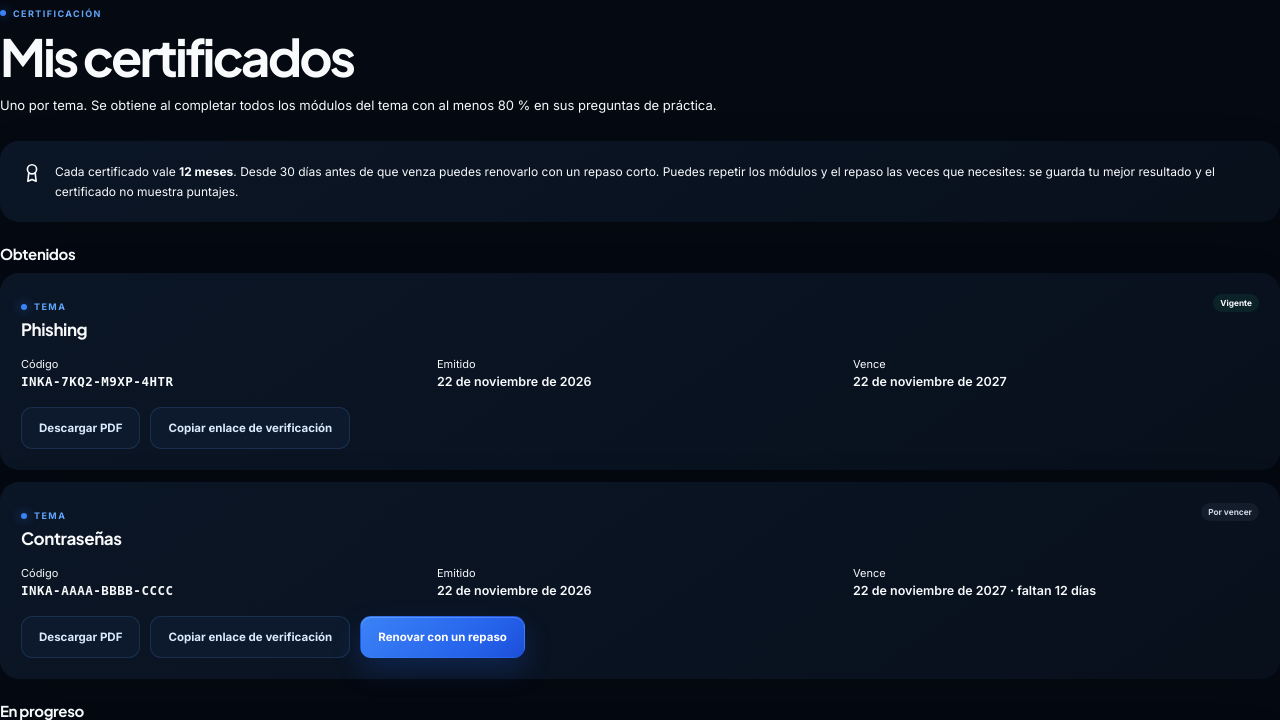
Test: Mis certificados › muestra el error si falla la descarga
Click the button "Descargar PDF" below "INKA-7KQ2-M9XP-4HTR".
click(81, 428)  # box [21,407,140,449]
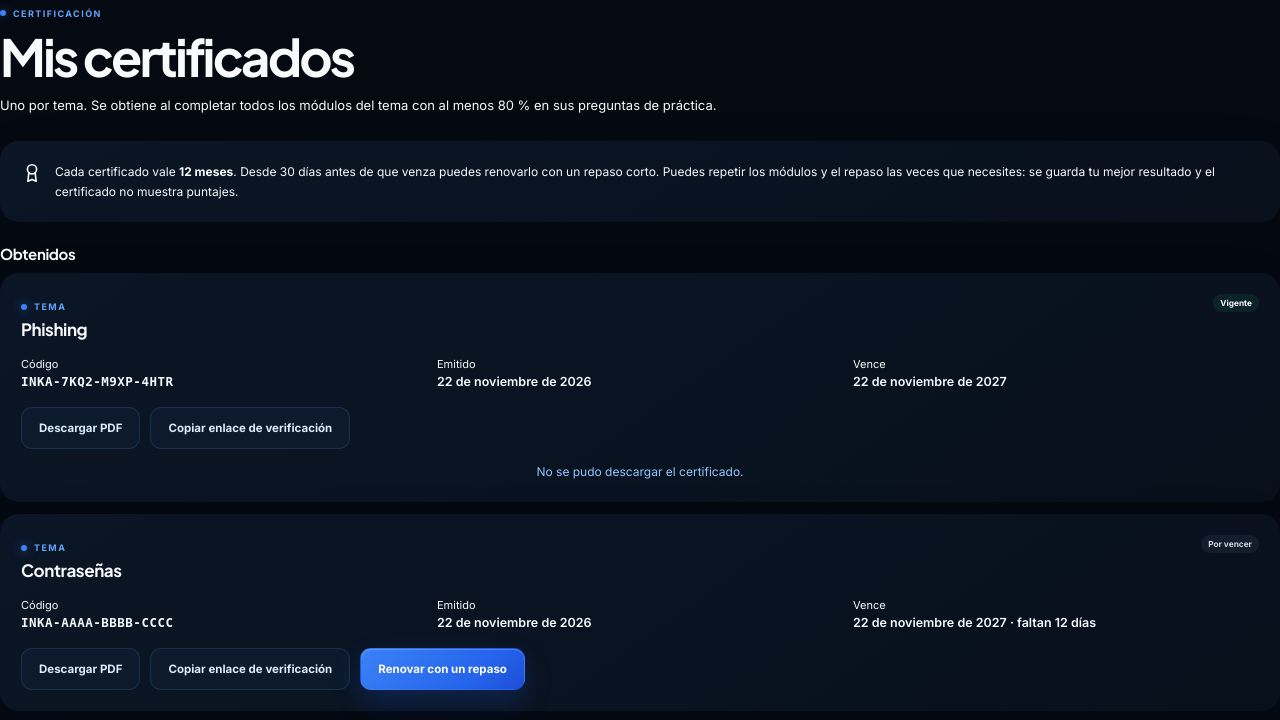
expect the message reads "No se pudo descargar el certificado.": met, box [536,464,744,479]
